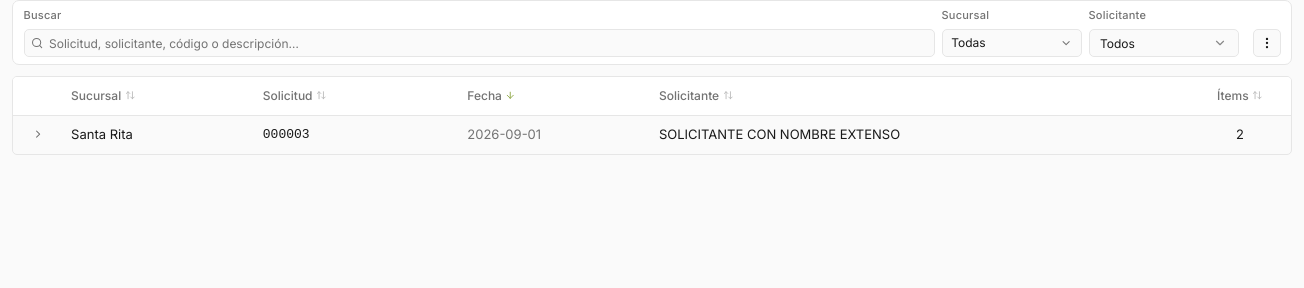
Scenario: purchase table presentation › keeps the probable link separate from reported balances and zero price
Click the button named "Ítems de la solicitud 000003 (Santa Rita)" at (39, 135), box x1=13 y1=128 x2=64 y2=141
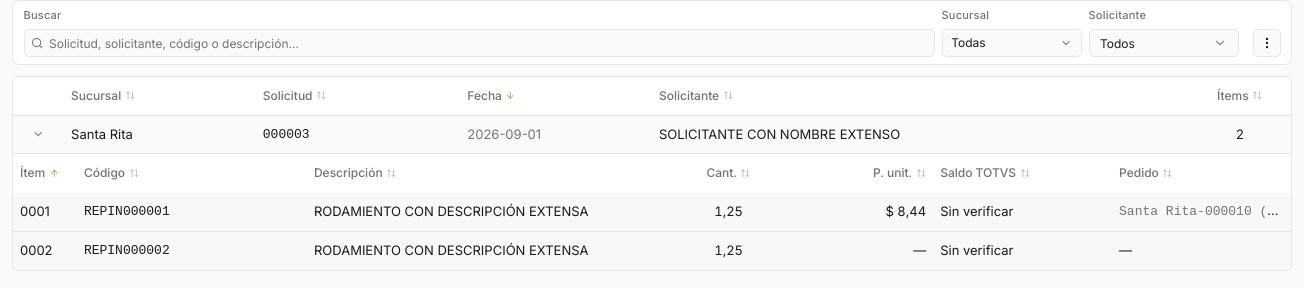
Expected: the cell "1,25" next to "$ 8,44" is shown, x1=714 y1=203 x2=743 y2=219
Expected: the cell "$ 8,44" is shown, x1=780 y1=192 x2=933 y2=231
Expected: the cell "Santa Rita-000010 (probable)" is shown, x1=1112 y1=192 x2=1291 y2=231
